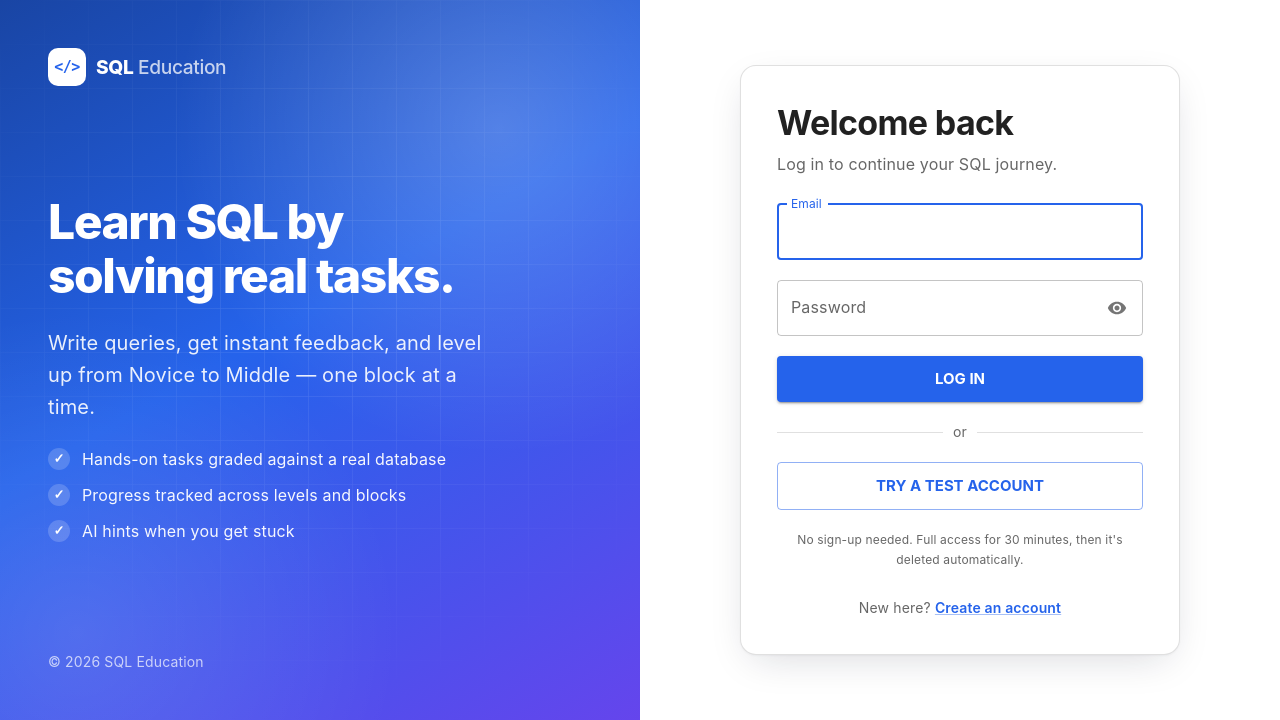
Test: LoginPage › shows an error on bad credentials (401)
Step 1. Type "ada@example.com" into the field labelled "Email" → (960, 232), box [777,204,1143,260]
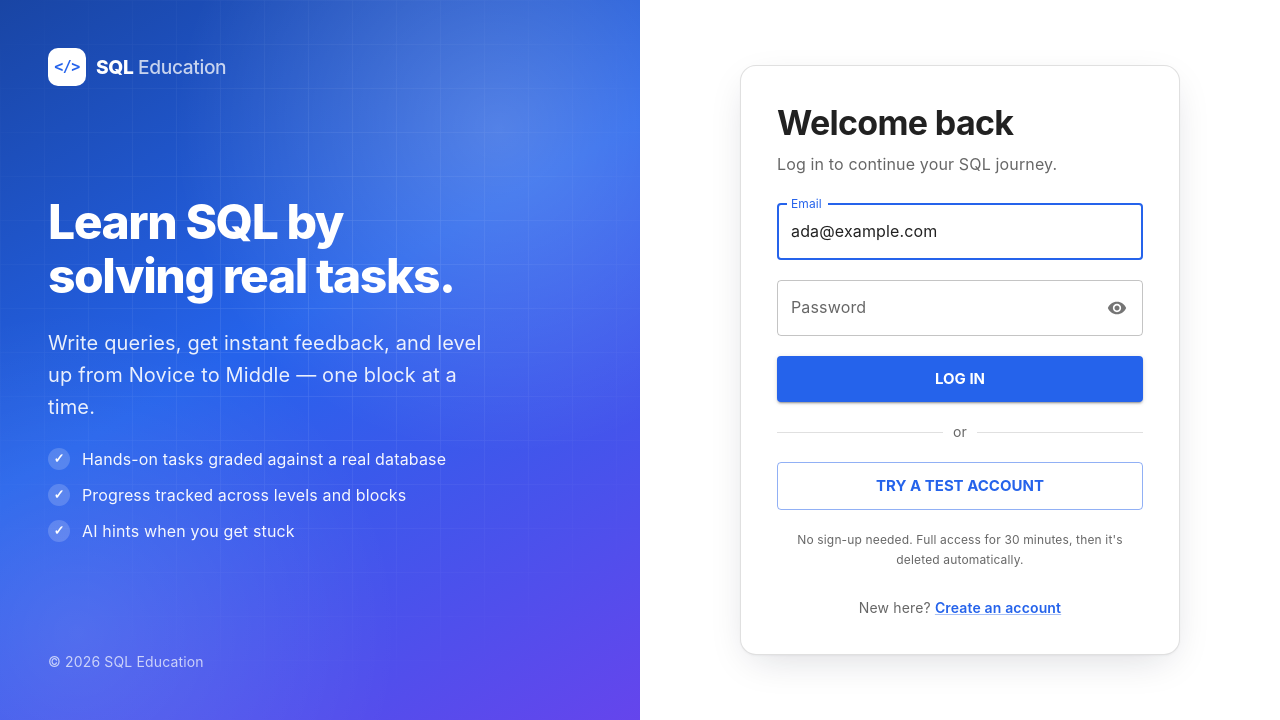
Step 2. Type "password123" into the password field labelled "Password" → (936, 308), box [777,280,1094,336]
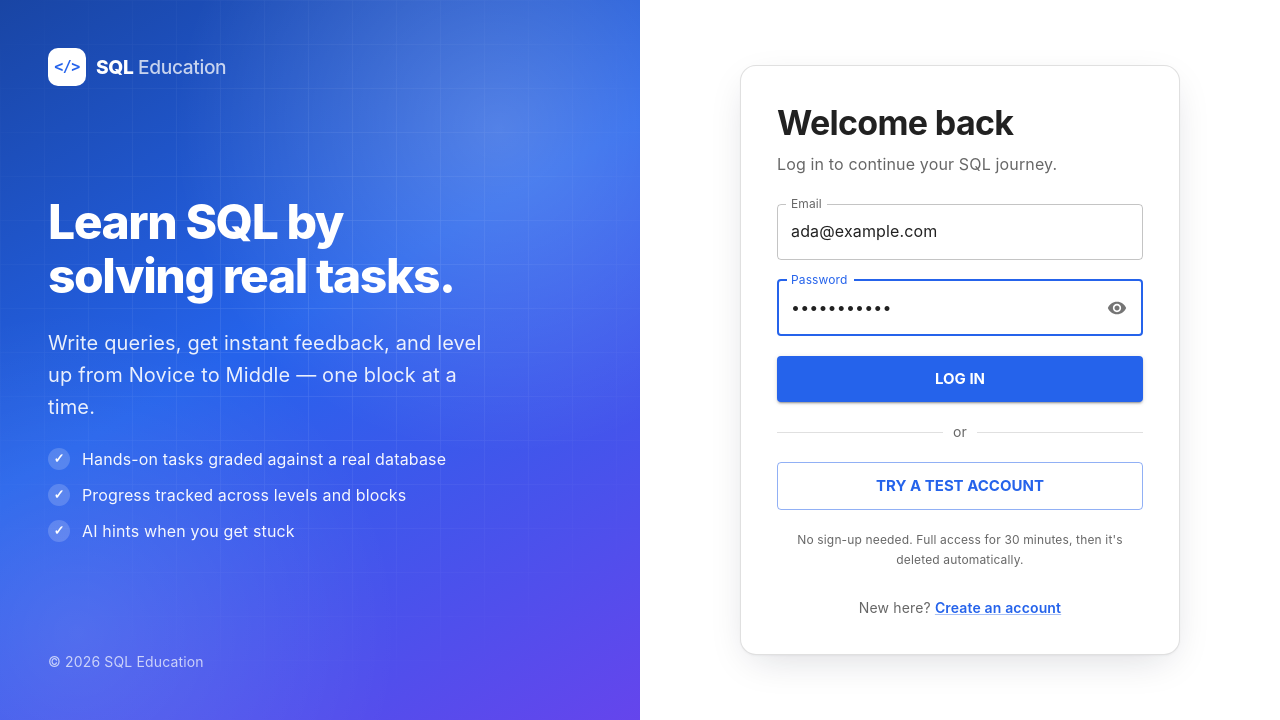
Step 3. Click the button "Log in" → (960, 379), box [777,356,1143,402]
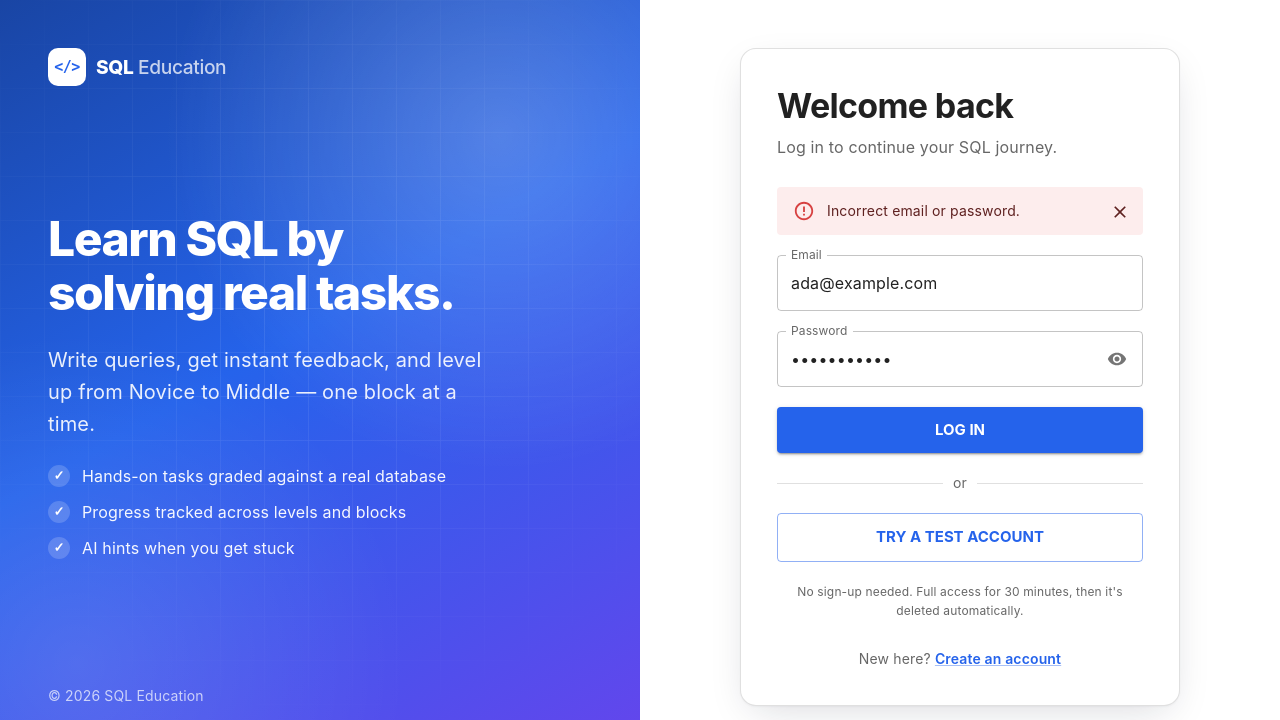
Expected: the text "Incorrect email or password." is shown, [827,202,1020,219]
